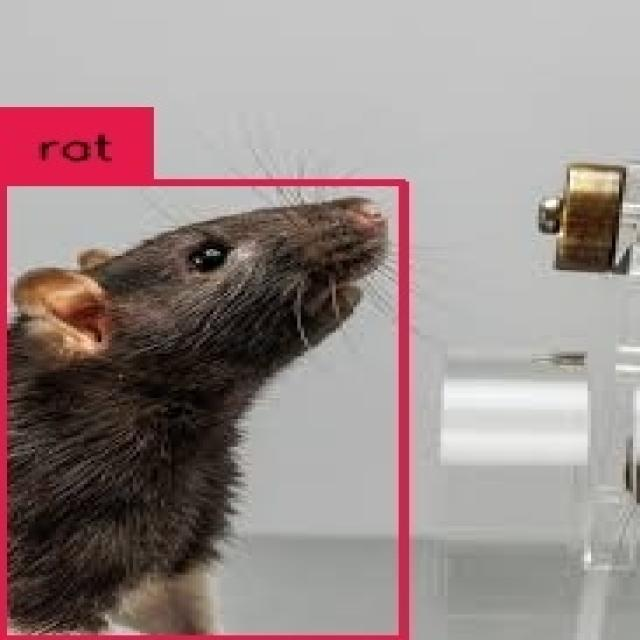rat: (0, 184, 406, 640)
